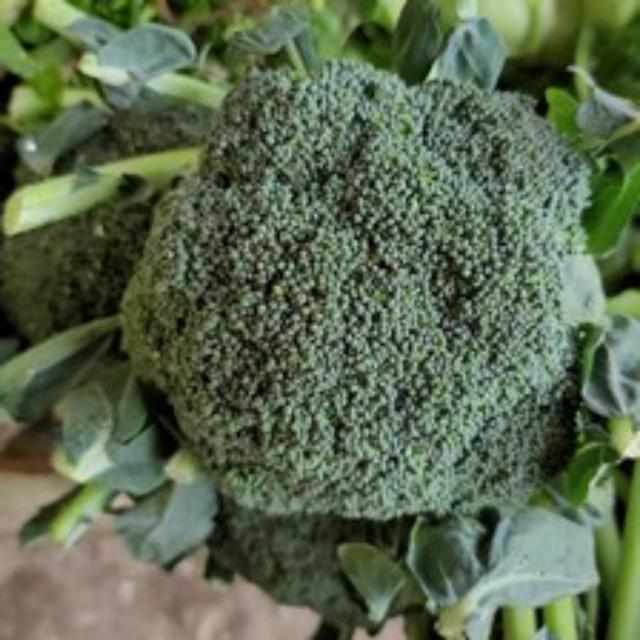broccoli: (119, 48, 612, 559)
